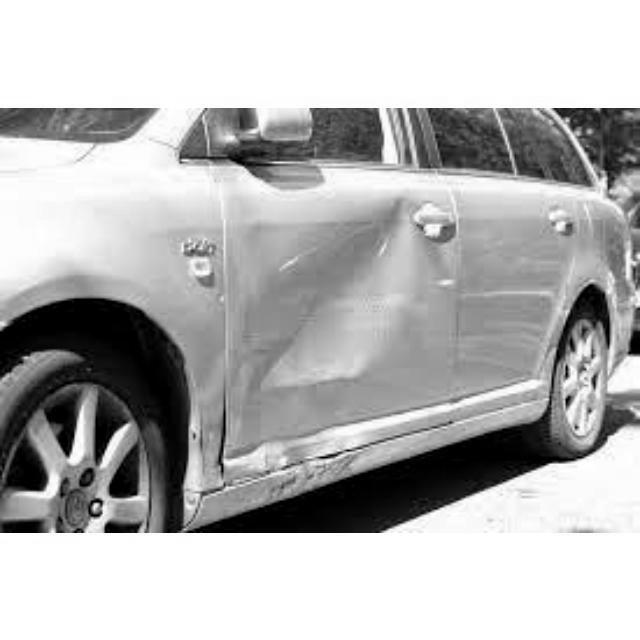Runningboard-Damage: (215, 443, 382, 498)
doorouter-dent: (227, 188, 452, 430)
